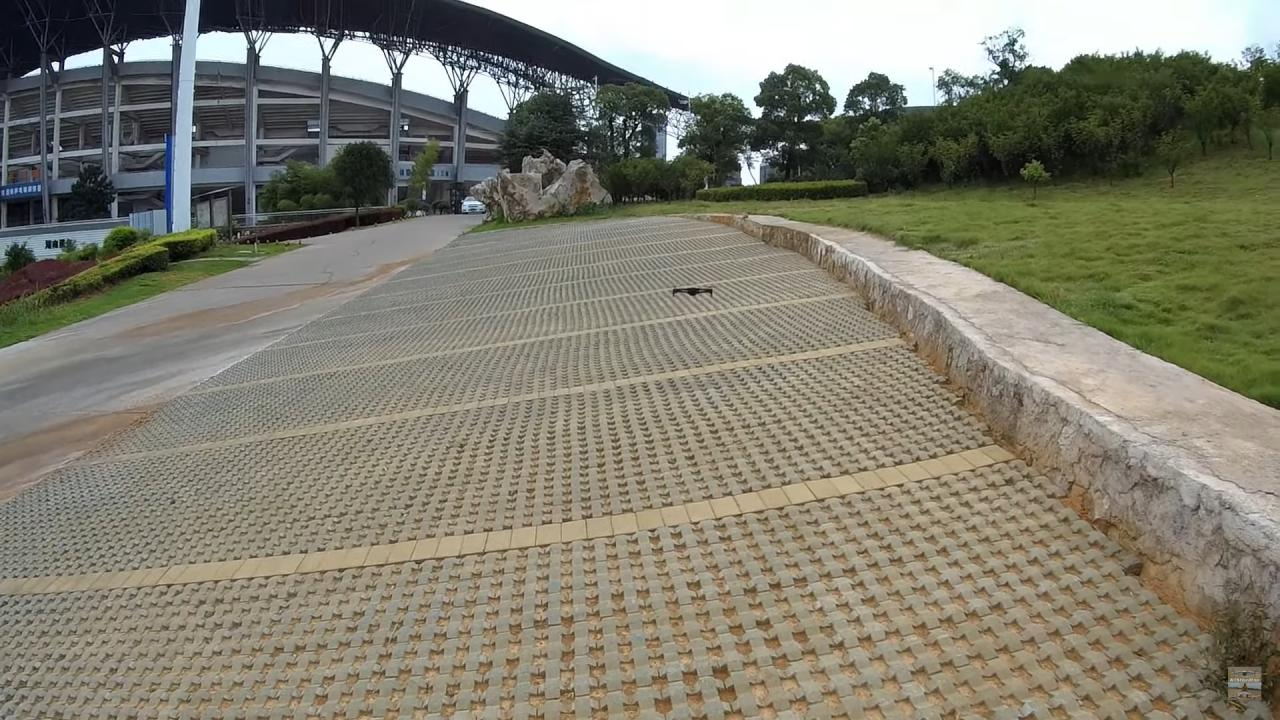Drone: (661, 275, 727, 309)
